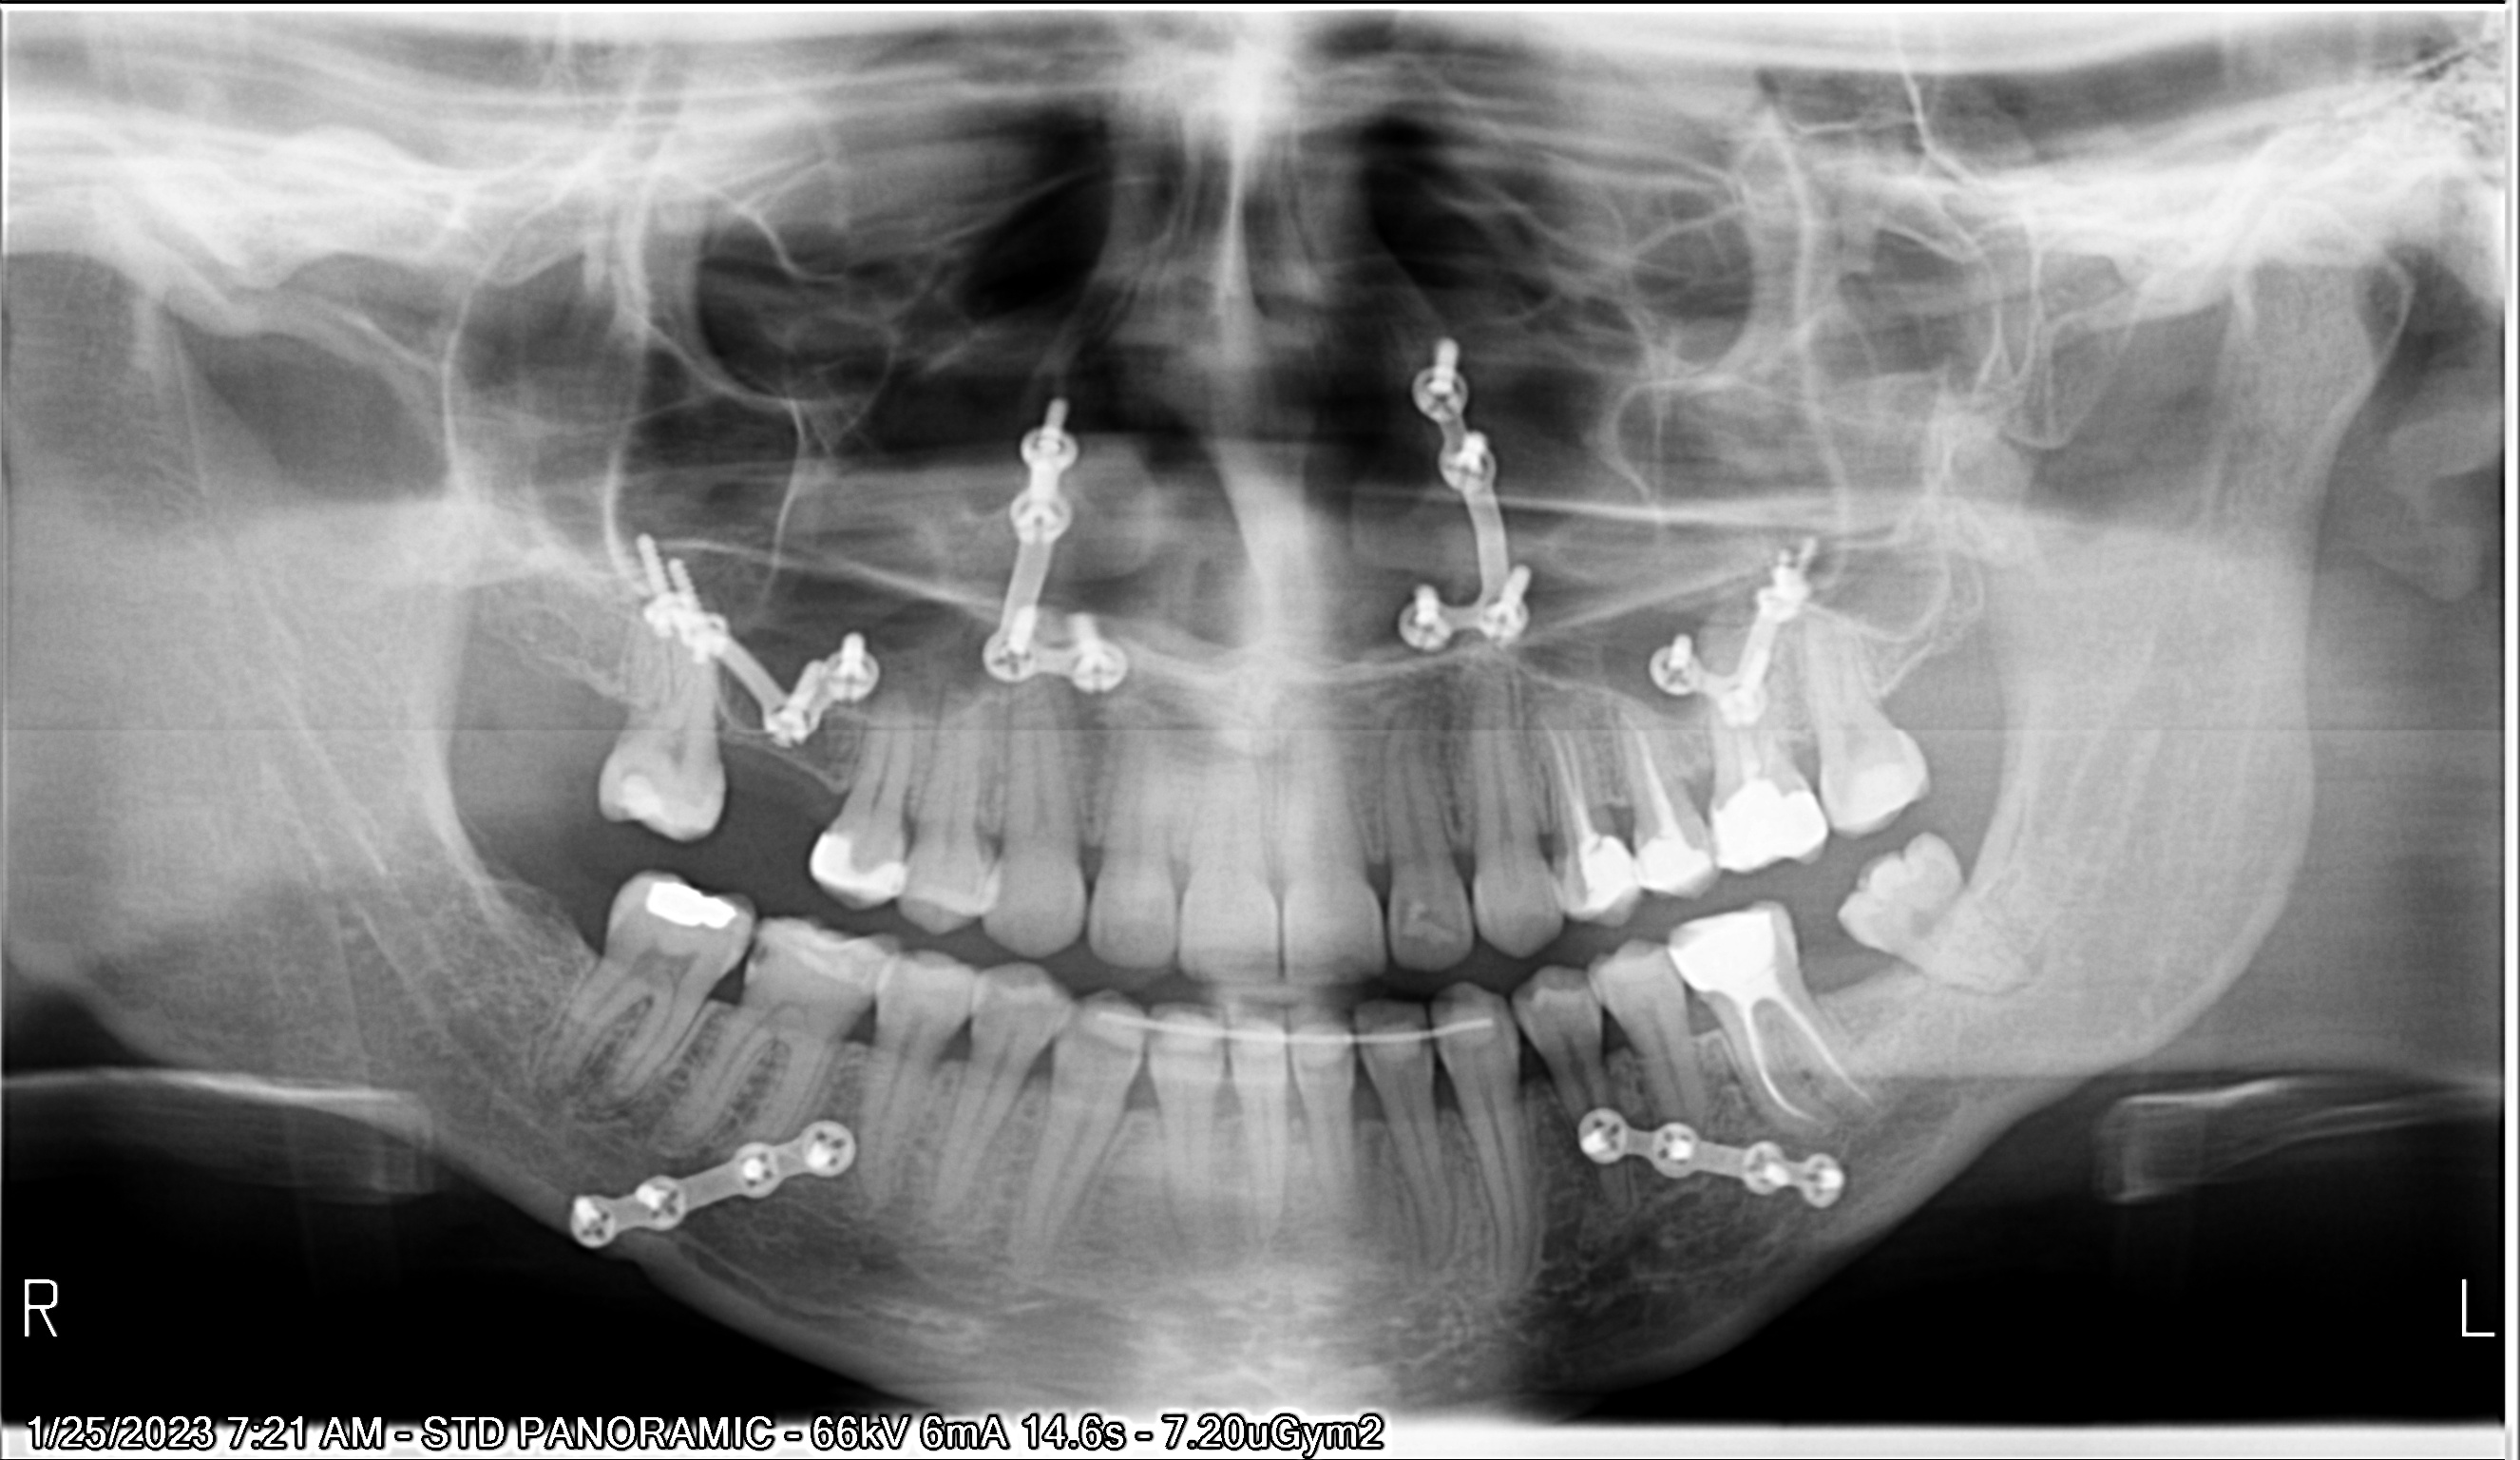CAR: (735, 933, 790, 980)
END: (1707, 994, 1905, 1144), (1535, 699, 1612, 841), (1612, 709, 1693, 836)
OBT: (1704, 773, 1822, 883), (1676, 893, 1794, 996), (806, 815, 910, 912), (632, 859, 742, 949), (1831, 733, 1930, 829), (594, 765, 722, 826), (1633, 820, 1719, 899), (1573, 820, 1639, 916)
ORD: (1066, 979, 1509, 1076)
SRD: (1320, 301, 1636, 683), (896, 398, 1209, 700), (587, 497, 879, 773), (535, 1086, 870, 1304), (1532, 1069, 1876, 1251), (1633, 521, 1865, 754)
